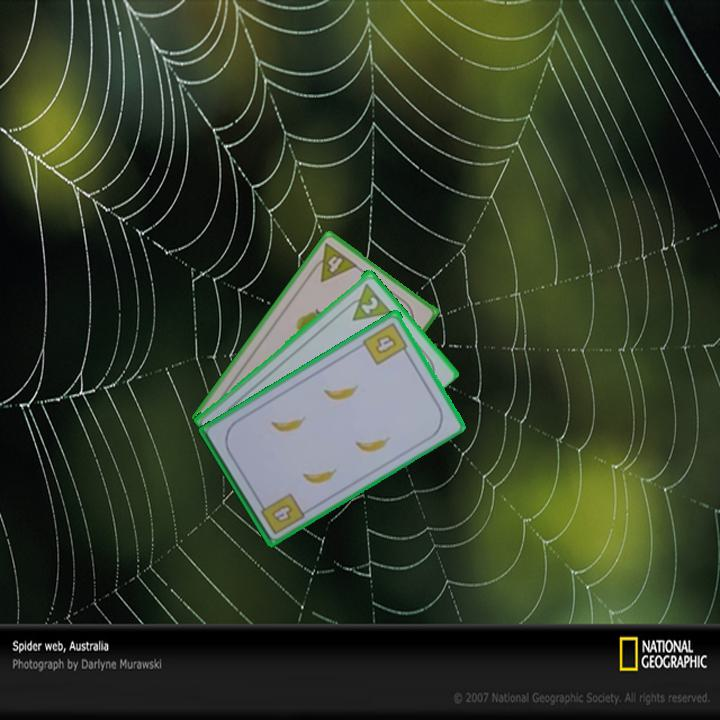2p: (357, 292, 381, 317)
4b: (359, 318, 412, 368), (267, 500, 296, 525)
4p: (306, 239, 360, 285)
